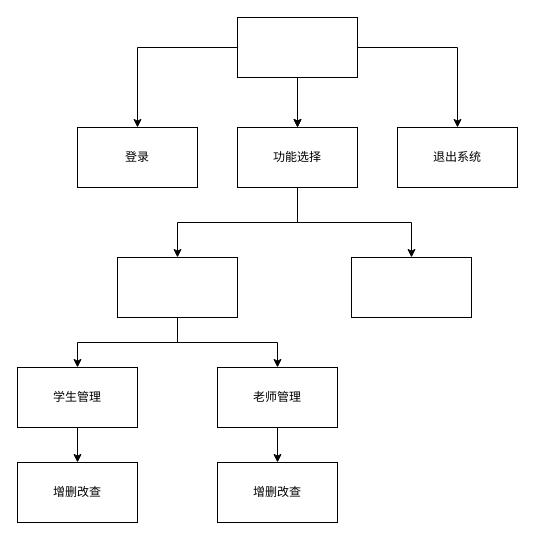
The diagram is 535 pixels wide and 540 high, and some of its shapes have lost their labels. The box of each missing label's shape, as (x1, y1, x2, y2) in pixels:
人员管理: (116, 256, 238, 318)
管理员管理系统: (236, 16, 358, 78)
考勤记录查询: (350, 256, 472, 318)
